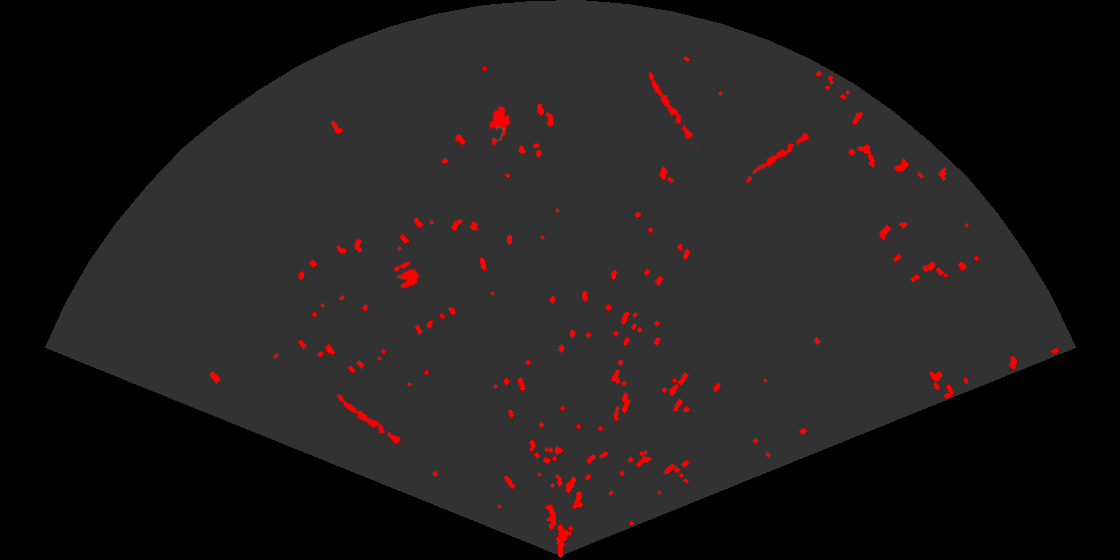AUV: (487, 104, 512, 147)
ball: (392, 260, 421, 290)
chain: (647, 70, 699, 149), (335, 392, 405, 448), (744, 129, 813, 185)
